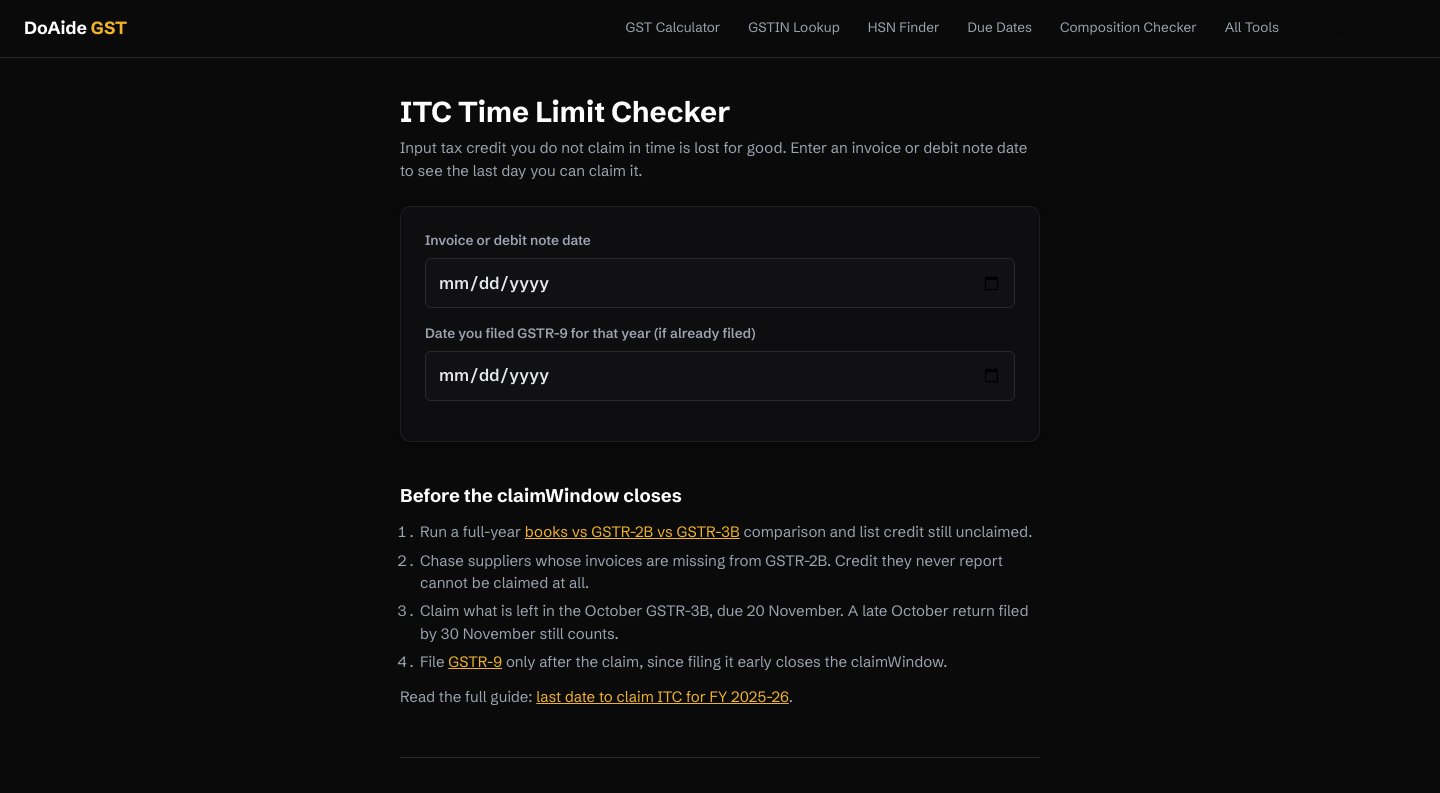
Test: ItcTimeLimitPage › points FY 2020-21 and earlier to section 16(5)
Type "2019-08-01" into the date field labelled "Invoice or debit note date" at point(720, 283), box [425,258,1015,308]
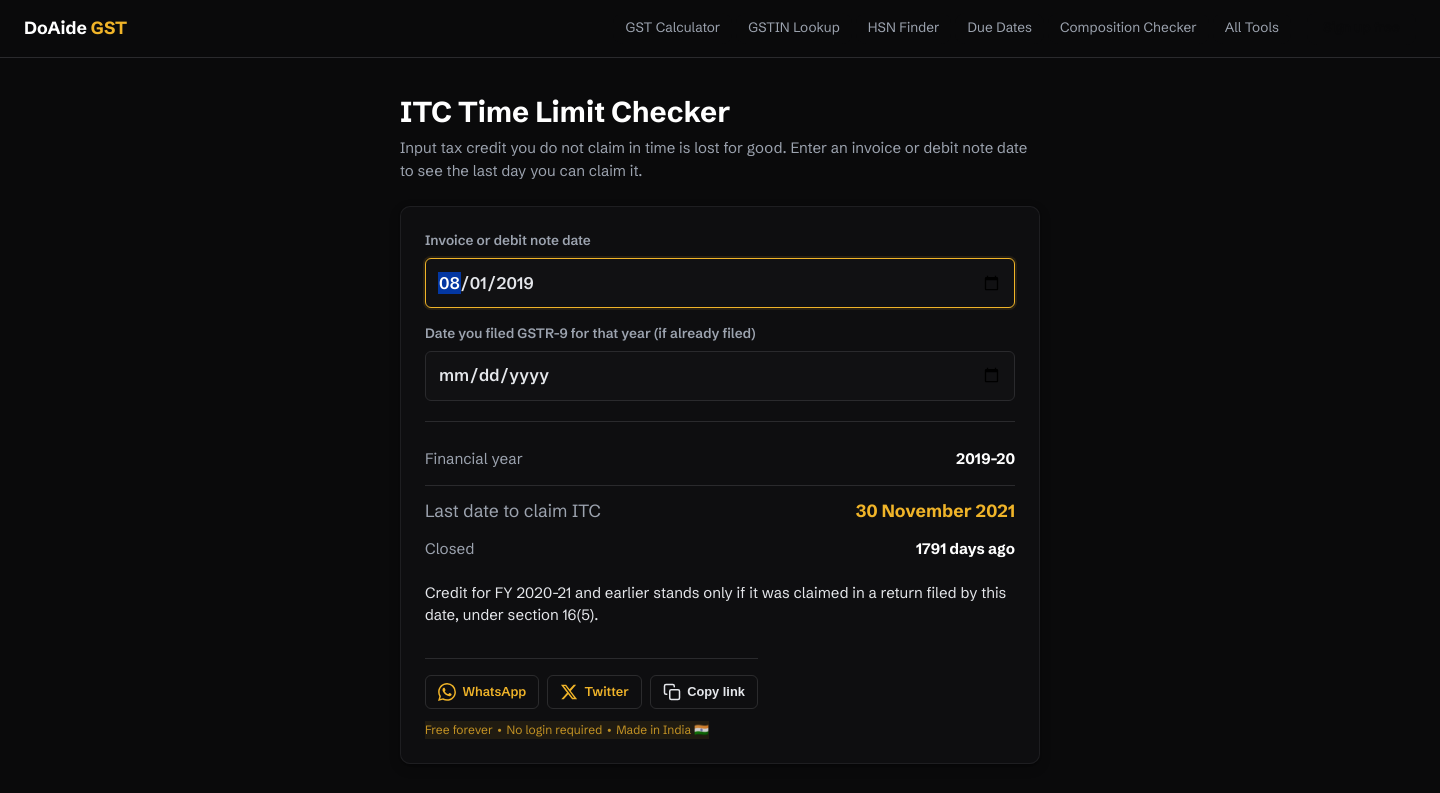
Result: the text "Last date to claim ITC" shows "30 November 2021" at [856,500,1015,522]
Result: the text "under section 16(5)" is shown at [425,583,1006,624]
